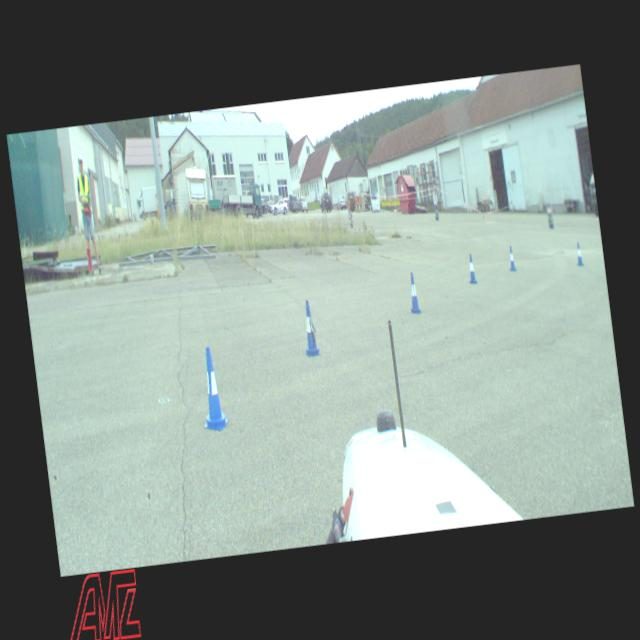blue_cone: (194, 345, 229, 431), (298, 300, 320, 357), (405, 271, 422, 314), (466, 252, 478, 284), (574, 240, 584, 266), (506, 245, 516, 271)
